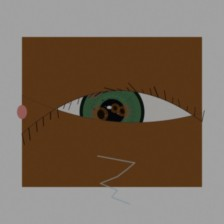foreign_body_visible: (77, 95, 125, 134)
